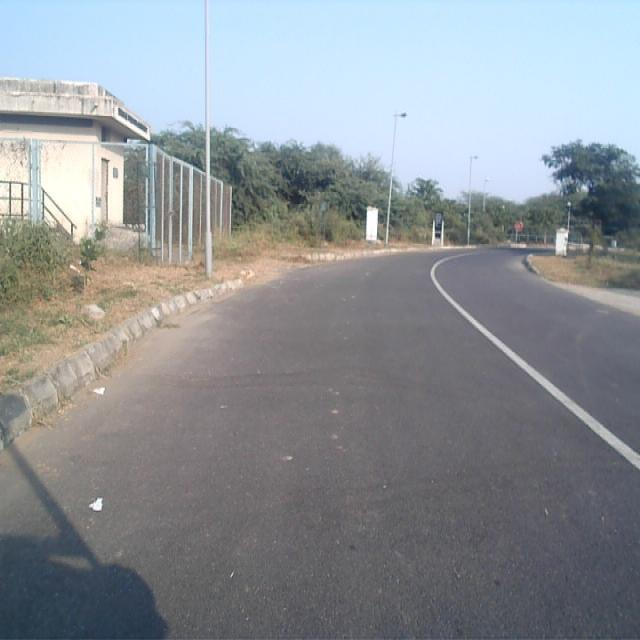lane: (0, 252, 640, 638)
